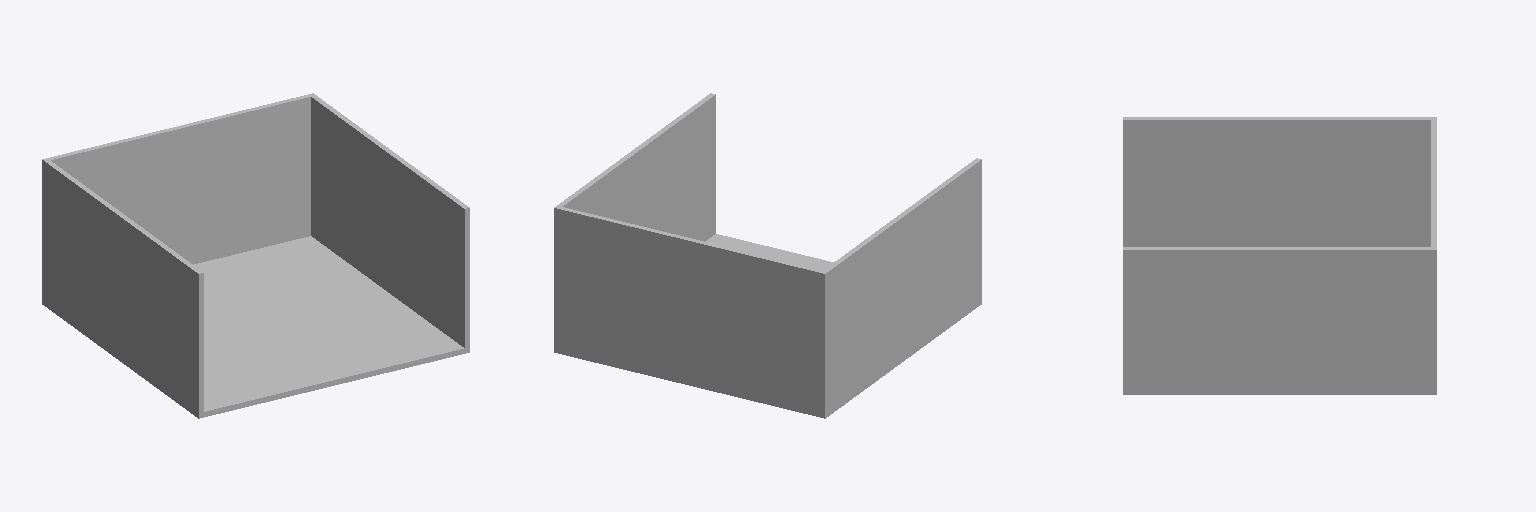
Rendered from sala.obj.
3 views of the same model, side by side, from view 1: azimuth 30°, elevation 25°; view 2: azimuth 150°, elevation 25°; view 3: azimuth 270°, elevation 25° (orthographic).
Parts seen in each view (by area): view 1: Mesh1 Model; view 2: Mesh1 Model; view 3: Mesh1 Model.
Part boxes in pixels (left/top/right/bottom): Mesh1 Model: left=42, top=93, right=469, bottom=418; Mesh1 Model: left=554, top=93, right=981, bottom=418; Mesh1 Model: left=1123, top=117, right=1436, bottom=394.
Size of the model in its own units: 10.2 by 5.2 by 10.2.